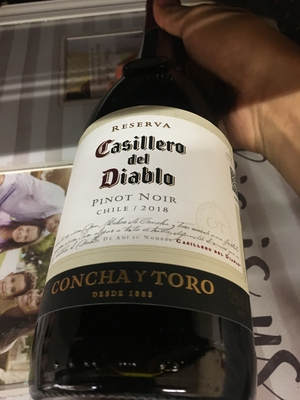casillero del diablo pinot noir: (40, 46, 250, 400)
